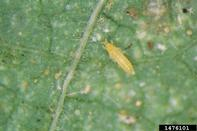Thrips: (98, 35, 142, 83)
